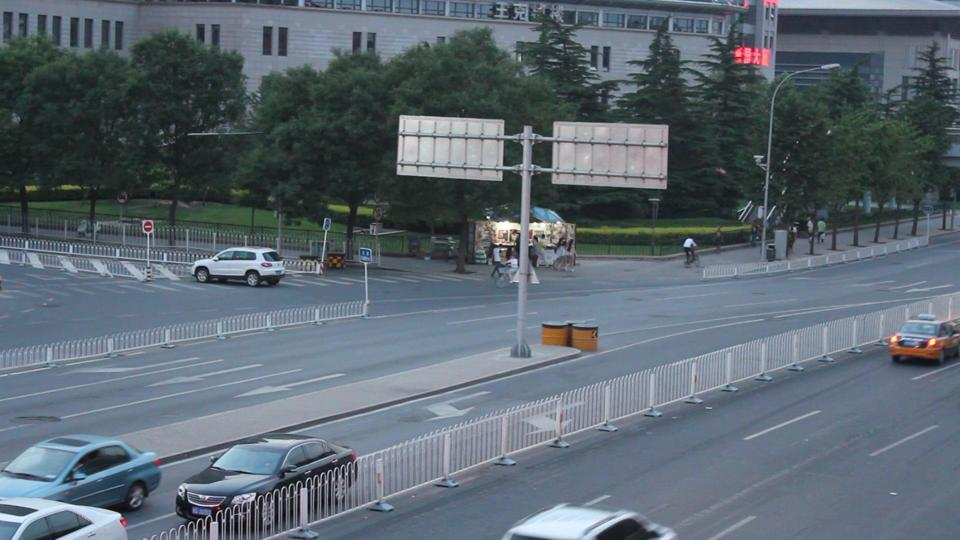Car: (177, 430, 361, 524), (1, 426, 161, 514), (1, 491, 128, 540), (192, 244, 285, 287), (887, 311, 960, 364)
